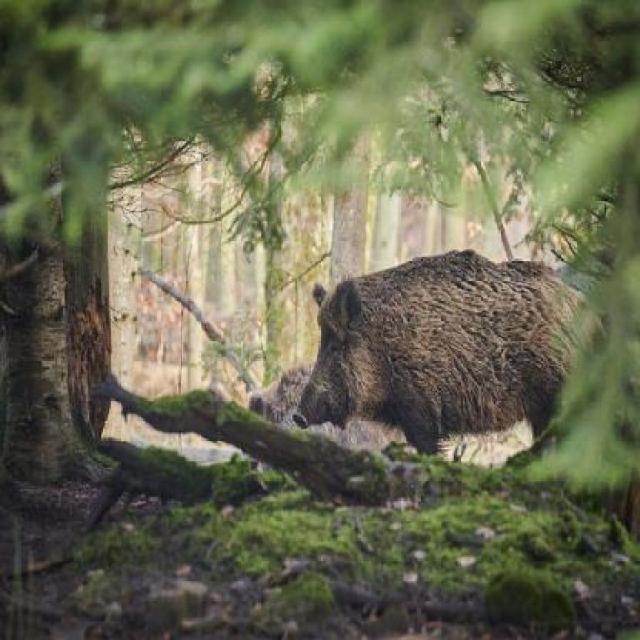wildboar: (295, 250, 611, 459)
